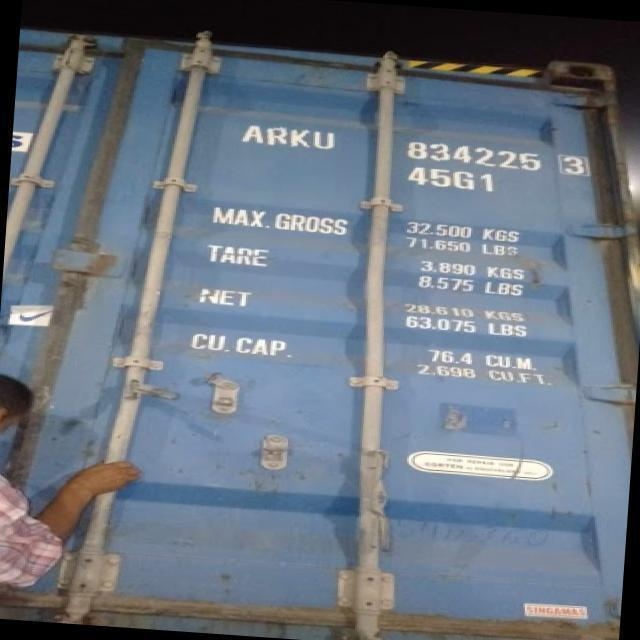ISO: (403, 167, 503, 198)
container_number: (227, 112, 578, 172)
